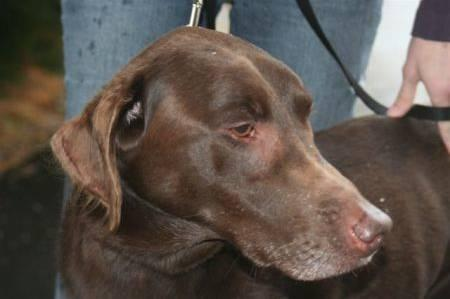dog: (55, 26, 393, 299)
